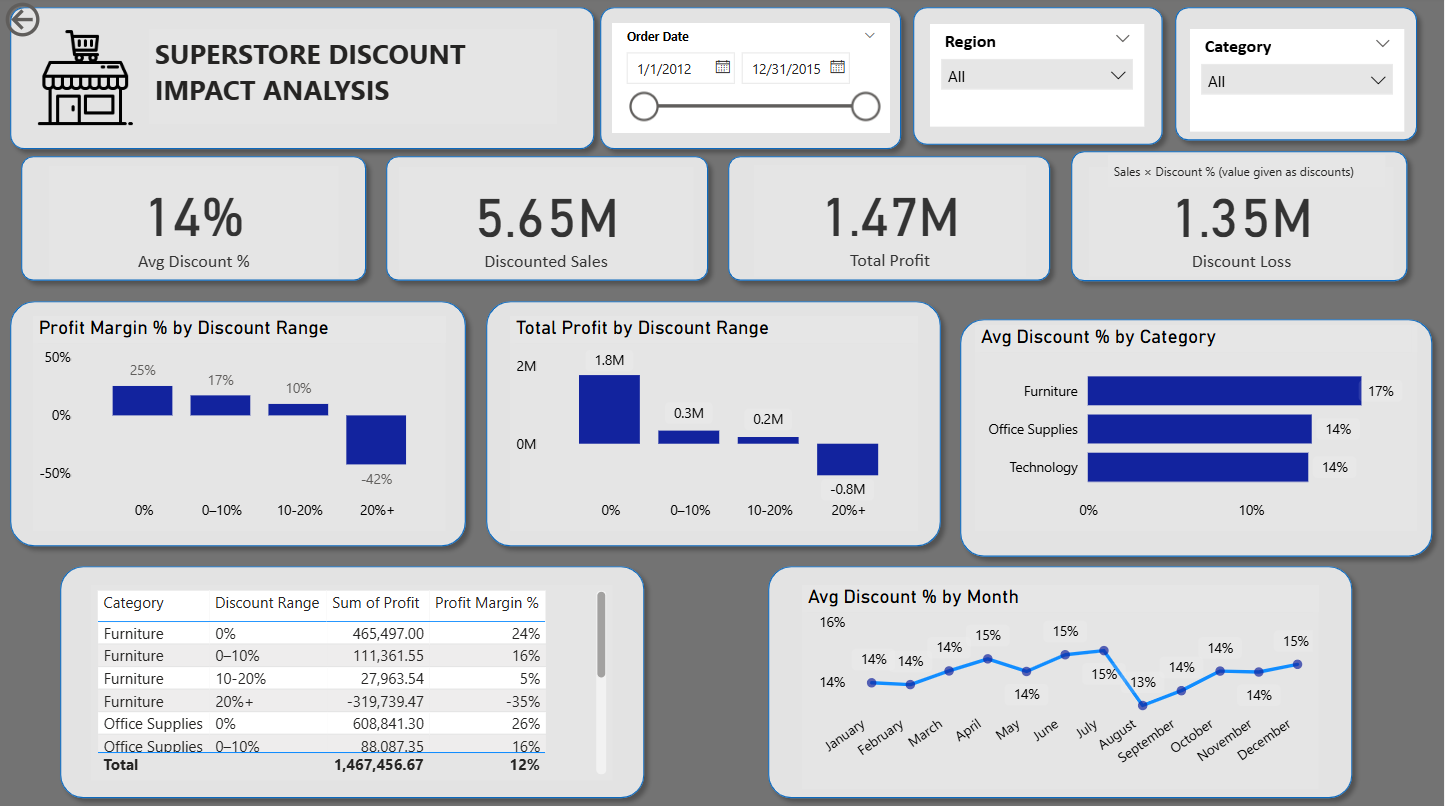

Layout of this report page (visuals, bound fields, positions):
{"tool":"powerbi","page":{"name":"Discount Impact Analysis","canvas":[1280,720],"ordinal":3},"visuals":[{"type":"shape","box":[0,0,535.9,144],"z":0},{"type":"textbox","box":[132.3,28.2,361.8,83.6],"z":1000},{"type":"shape","box":[800.5,0,239.3,140.1],"z":2000},{"type":"shape","box":[523.3,0,285,144],"z":3000},{"type":"slicer","fields":{"Values":["Order Table.Region"]},"box":[824.8,24.3,189.7,91.4],"z":4000},{"type":"slicer","fields":{"Values":["Order Table.Category"]},"box":[1055.3,38.9,187.7,72.9],"z":5000},{"type":"slicer","fields":{"Values":["Order Table.Order Date"]},"box":[542.7,23.3,246.1,97.3],"z":6000},{"type":"shape","box":[1032.9,0,232.5,136.2],"z":7000},{"type":"slicer","fields":{"Values":["Order Table.Category"]},"box":[1055.3,28.2,189.7,91.4],"z":8000},{"type":"image","box":[22.4,23.3,107,97.3],"z":9000},{"type":"shape","box":[9.7,132.3,323.9,128.4],"z":10000},{"type":"card","fields":{"Values":["Order Table.Avg Discount %"]},"box":[43.8,149.8,256.8,98.2],"z":11000},{"type":"shape","box":[333.6,132.3,303.5,128.4],"z":12000},{"type":"card","fields":{"Values":["Order Table.Discounted Sales"]},"box":[354,150.8,260.7,97.3],"z":13000},{"type":"shape","box":[637.1,132.3,303.5,128.4],"z":14000},{"type":"card","fields":{"Values":["Order Table.Total Profit"]},"box":[668.2,148.8,241.2,99.2],"z":15000},{"type":"shape","box":[940.5,127.4,316.1,133.3],"z":16000},{"type":"shape","box":[0,260.7,422.1,235.4],"z":17000},{"type":"clusteredColumnChart","title":"Profit Margin % by Discount Range","fields":{"Category":["Order Table.Discount Range"],"Y":["Order Table.Profit Margin %"]},"box":[29.2,283,365.7,190.6],"z":18000},{"type":"shape","box":[422.1,260.7,421.2,235.4],"z":19000},{"type":"clusteredColumnChart","fields":{"Category":["Order Table.Discount Range"],"Y":["Order Table.Total Profit"]},"box":[452.3,283,361.8,190.6],"z":20000},{"type":"shape","box":[842.3,276.2,436.7,228.6],"z":21000},{"type":"barChart","fields":{"Category":["Order Table.Category"],"Y":["Order Table.Avg Discount %"]},"box":[864.7,290.8,392,182.9],"z":22000},{"type":"shape","box":[44.7,496,535.9,223.7],"z":23000},{"type":"tableEx","fields":{"Values":["Order Table.Category","Order Table.Discount Range","Sum(Order Table.Profit)","Order Table.Profit Margin %"]},"box":[80.7,521.3,462,173.1],"z":24000},{"type":"actionButton","box":[0,0,100,40],"z":25000},{"type":"shape","box":[672.1,496,535.9,223.7],"z":26000},{"type":"lineChart","fields":{"Category":["Order Table.Month"],"Y":["Order Table.Avg Discount %"]},"box":[711,521.3,458.1,180.9],"z":27000},{"type":"card","fields":{"Values":["Order Table.Discount Loss"]},"box":[965.8,150.8,270.4,97.3],"z":28000},{"type":"textbox","box":[982.4,140.1,246.1,28.2],"z":29000}]}

Visuals, with their boxes in screenshot pixels (x1, y1, x2, y2), scaled from the page's 1280x720 canvas onto the 1445x806 screenshot:
shape: bbox(0, 0, 605, 161)
textbox: bbox(149, 32, 558, 125)
shape: bbox(904, 0, 1174, 157)
shape: bbox(591, 0, 912, 161)
slicer - Order Table.Region: bbox(931, 27, 1145, 130)
slicer - Order Table.Category: bbox(1191, 44, 1403, 125)
slicer - Order Table.Order Date: bbox(613, 26, 890, 135)
shape: bbox(1166, 0, 1429, 152)
slicer - Order Table.Category: bbox(1191, 32, 1405, 134)
image: bbox(25, 26, 146, 135)
shape: bbox(11, 148, 377, 292)
card - Order Table.Avg Discount %: bbox(49, 168, 339, 278)
shape: bbox(377, 148, 719, 292)
card - Order Table.Discounted Sales: bbox(400, 169, 694, 278)
shape: bbox(719, 148, 1062, 292)
card - Order Table.Total Profit: bbox(754, 167, 1027, 278)
shape: bbox(1062, 143, 1419, 292)
shape: bbox(0, 292, 477, 555)
"Profit Margin % by Discount Range" clusteredColumnChart: bbox(33, 317, 446, 530)
shape: bbox(477, 292, 952, 555)
clusteredColumnChart - Order Table.Discount Range x Order Table.Total Profit: bbox(511, 317, 919, 530)
shape: bbox(951, 309, 1444, 565)
barChart - Order Table.Category x Order Table.Avg Discount %: bbox(976, 326, 1419, 530)
shape: bbox(50, 555, 655, 805)
tableEx - Order Table.Category x Order Table.Discount Range: bbox(91, 584, 613, 777)
actionButton: bbox(0, 0, 113, 45)
shape: bbox(759, 555, 1364, 805)
lineChart - Order Table.Month x Order Table.Avg Discount %: bbox(803, 584, 1320, 786)
card - Order Table.Discount Loss: bbox(1090, 169, 1396, 278)
textbox: bbox(1109, 157, 1387, 188)
